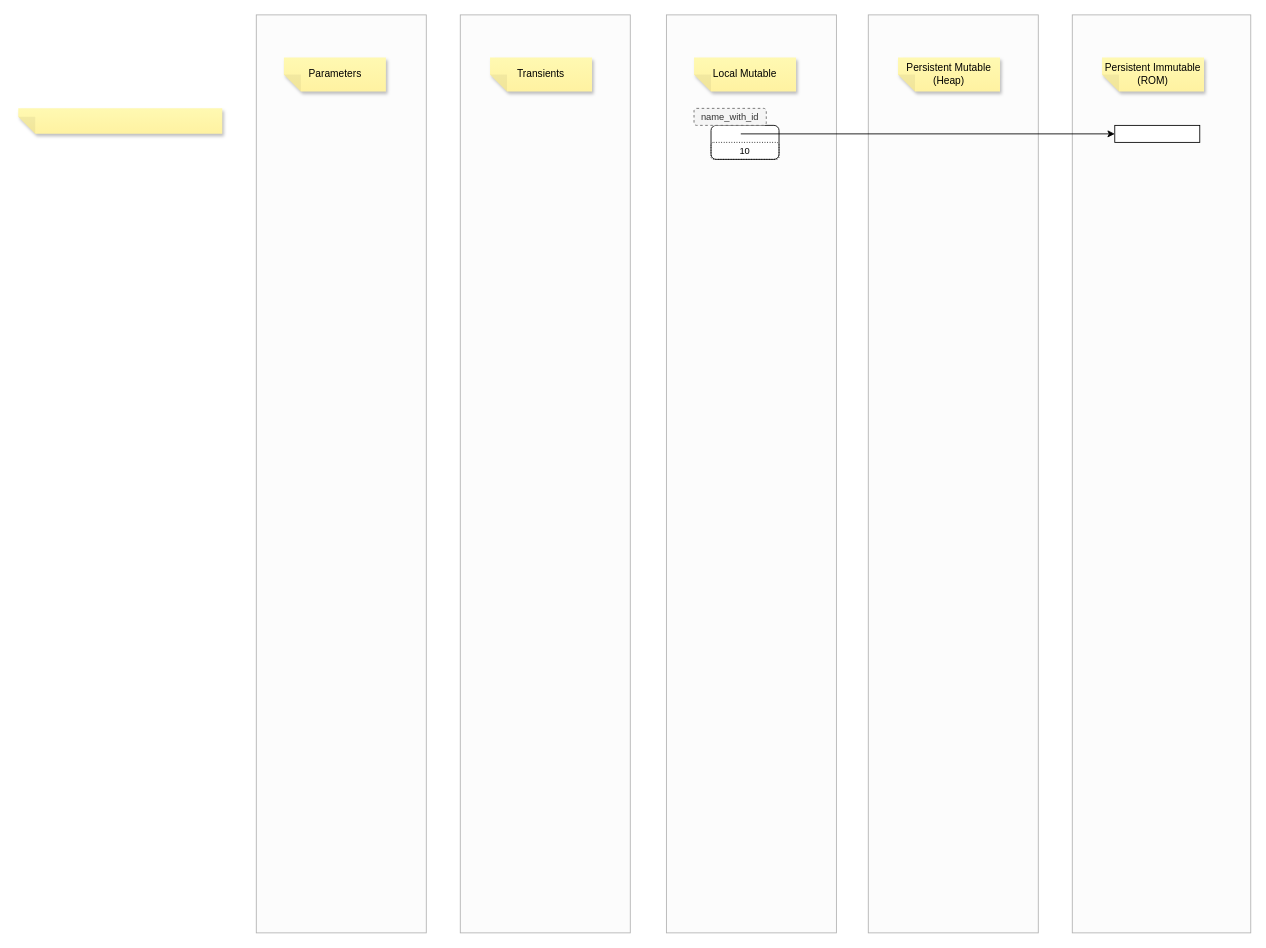
Some shapes in this 1266 by 948 pixel diagram are drawn without their labels. Each missing label, with the centre of its shape:
"deracer[1]" goes at (x=1157, y=133).
"name_with_id := fmt.aprintf(...)" goes at (x=120, y=122).
